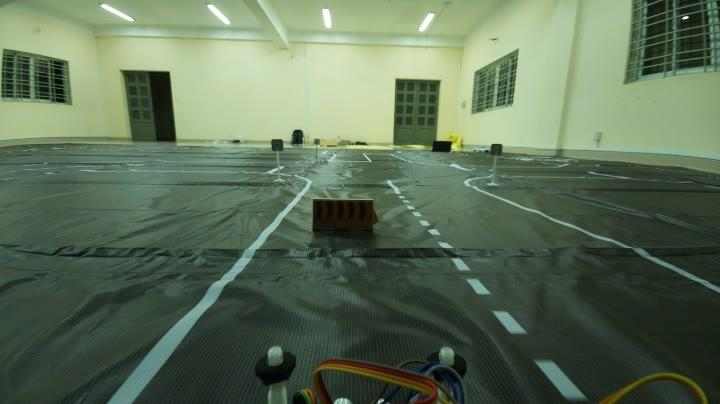roadblock: (305, 191, 386, 243)
